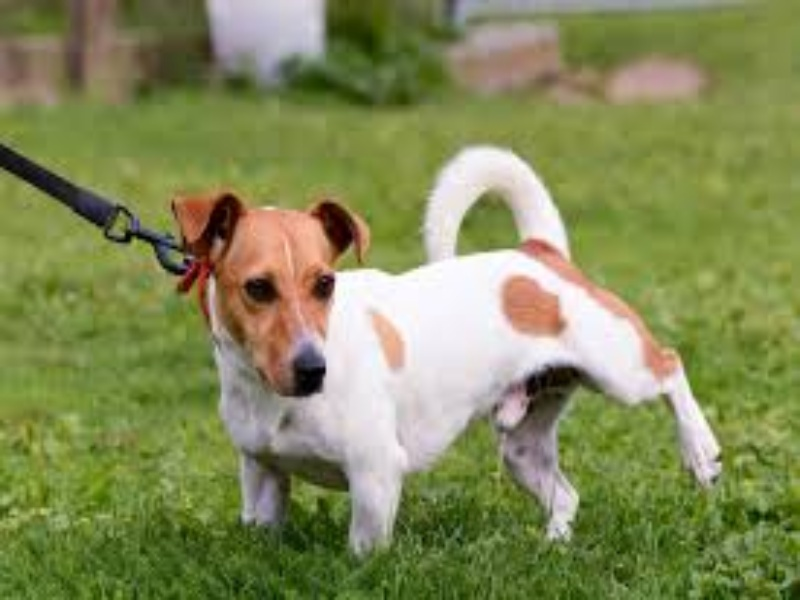dog: (164, 144, 731, 574)
